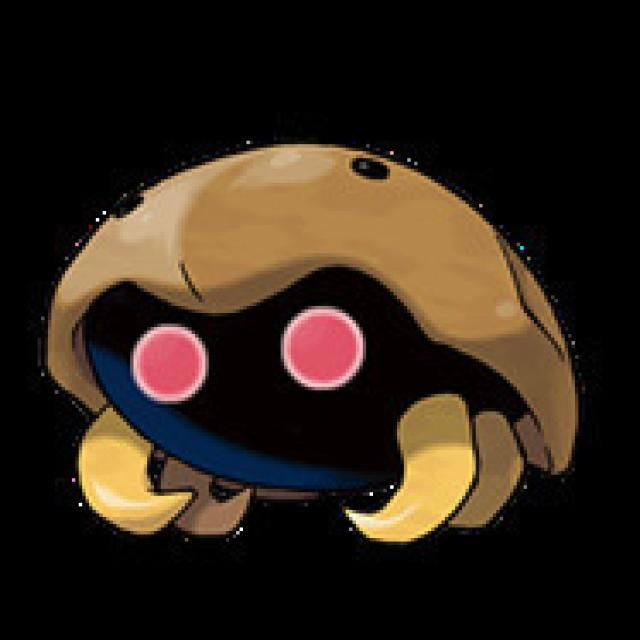Kabuto: (46, 125, 592, 476)
